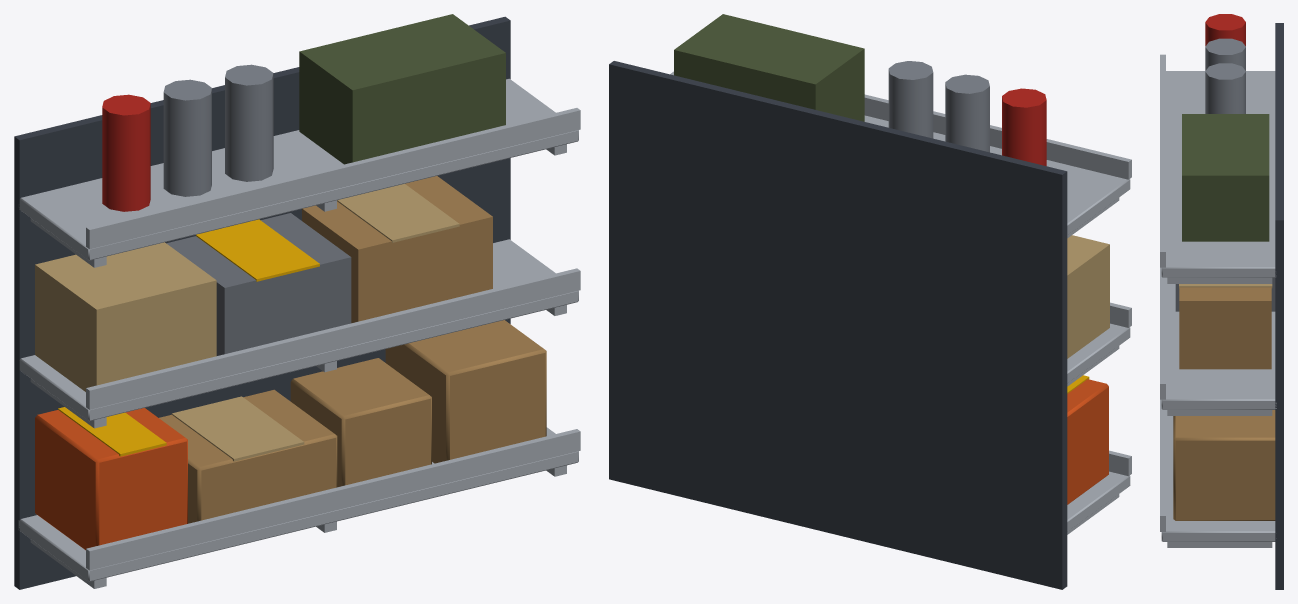
Rendered from shelving_wall_storage_rack.glb.
3 renders of one model, left to right at view 1: azimuth 30°, elevation 25°; view 2: azimuth 150°, elevation 25°; view 3: azimuth 270°, elevation 25°, orthographic. The views are drawn at different scales.
Visible parts, largest first — view 1: shelving_wall_storage_rack; view 2: shelving_wall_storage_rack; view 3: shelving_wall_storage_rack.
Boxes of the visible parts, x1,y1,x2,y2 form: shelving_wall_storage_rack: (14, 14, 580, 589); shelving_wall_storage_rack: (609, 14, 1131, 589); shelving_wall_storage_rack: (1160, 14, 1283, 589).
Bounding box in the file's own units: 1.6 × 1.52 × 0.425.
